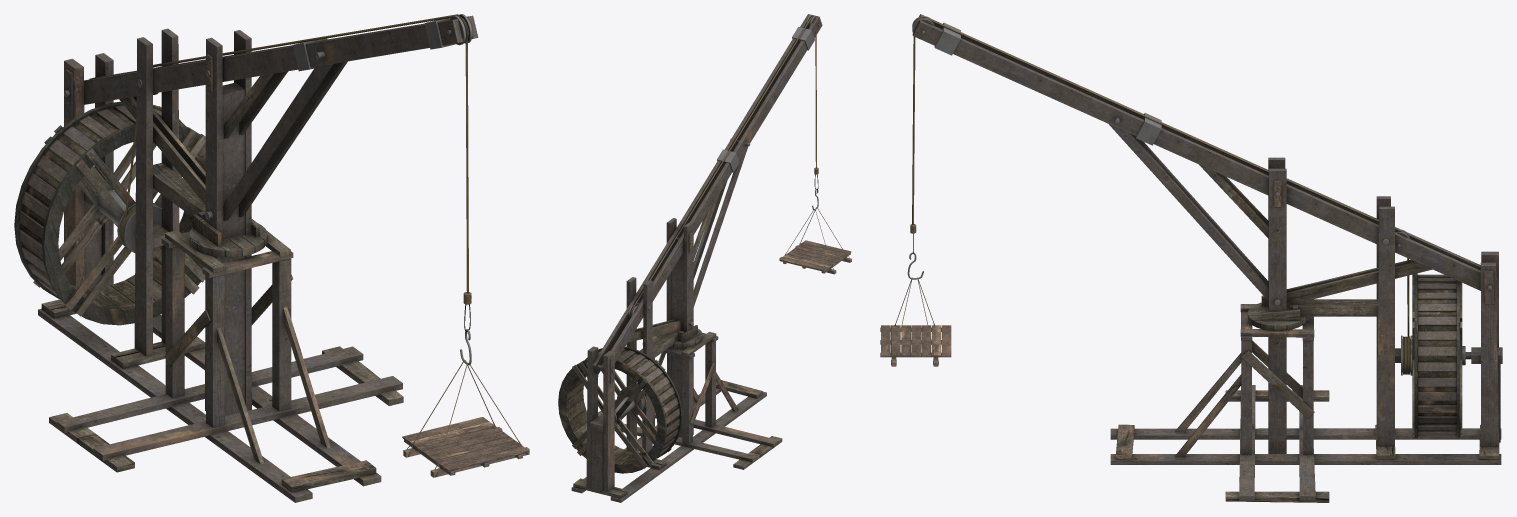
File: medieval_crane.glb
3 renders of one model, left to right at view 1: azimuth 30°, elevation 25°; view 2: azimuth 150°, elevation 25°; view 3: azimuth 270°, elevation 25°, orthographic. The views are drawn at different scales.
Visible parts, largest first — view 1: Cube, wheel, pallet, rope; view 2: Cube, wheel, pallet, rope; view 3: Cube, wheel, pallet, rope.
Part boxes in pixels (box(x1,y1,x2,y2)): Cube: box(38, 14, 478, 502); wheel: box(14, 101, 205, 325); pallet: box(402, 360, 529, 477); rope: box(124, 14, 471, 365); Cube: box(571, 14, 822, 502); wheel: box(558, 346, 682, 473); pallet: box(779, 207, 851, 274); rope: box(630, 15, 818, 392); Cube: box(912, 14, 1502, 502); wheel: box(1412, 273, 1471, 438); pallet: box(880, 277, 951, 366); rope: box(907, 18, 1409, 336).
Size of the model in its own units: 8.72 by 15.78 by 20.64.
2 materials, 2 textured.
